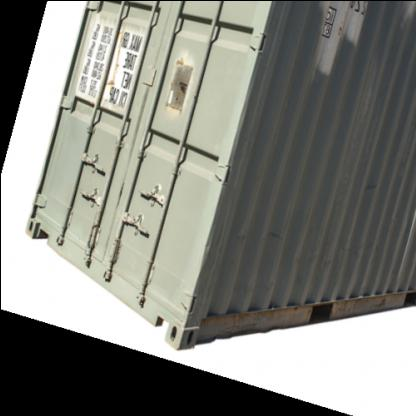Damage: (202, 289, 408, 335)
